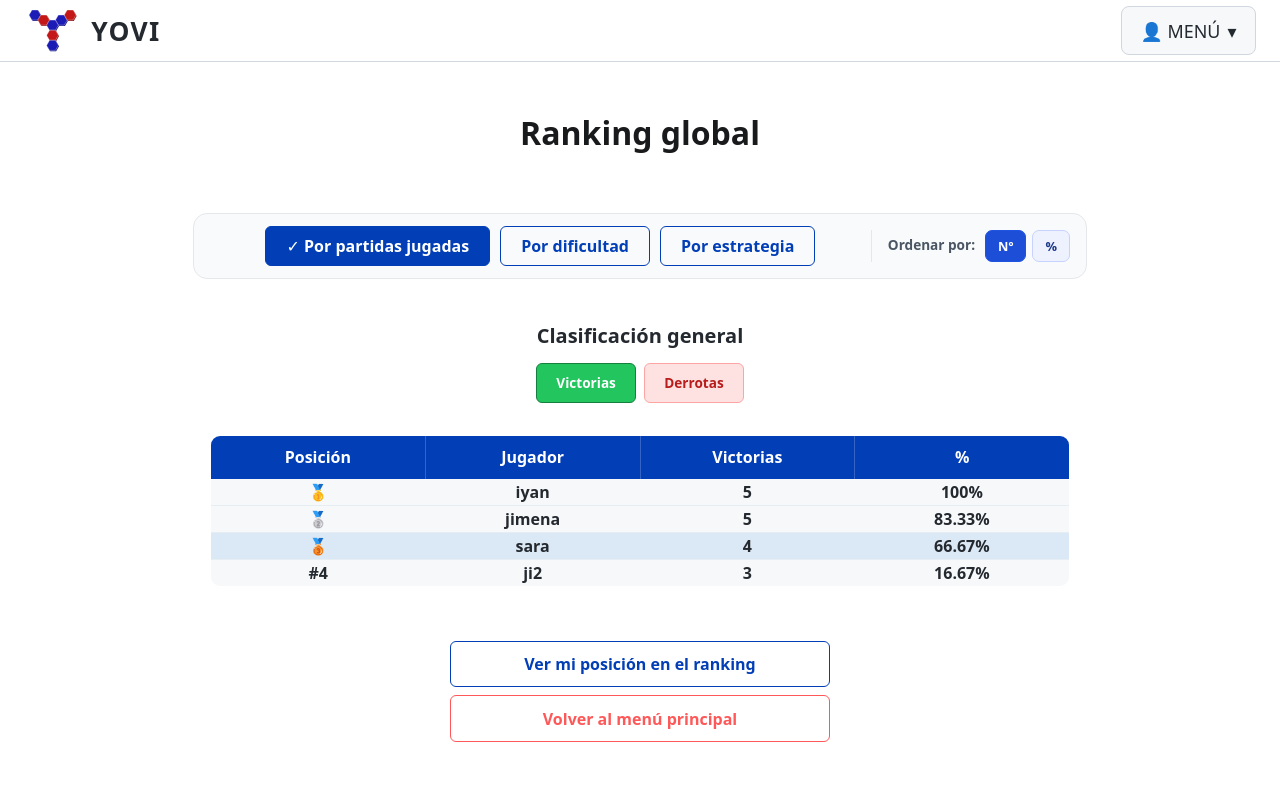
Test: Ranking › muestra sección de estrategia al activarla
Click the button "Por estrategia".
click(738, 246)  # box [660, 226, 815, 266]
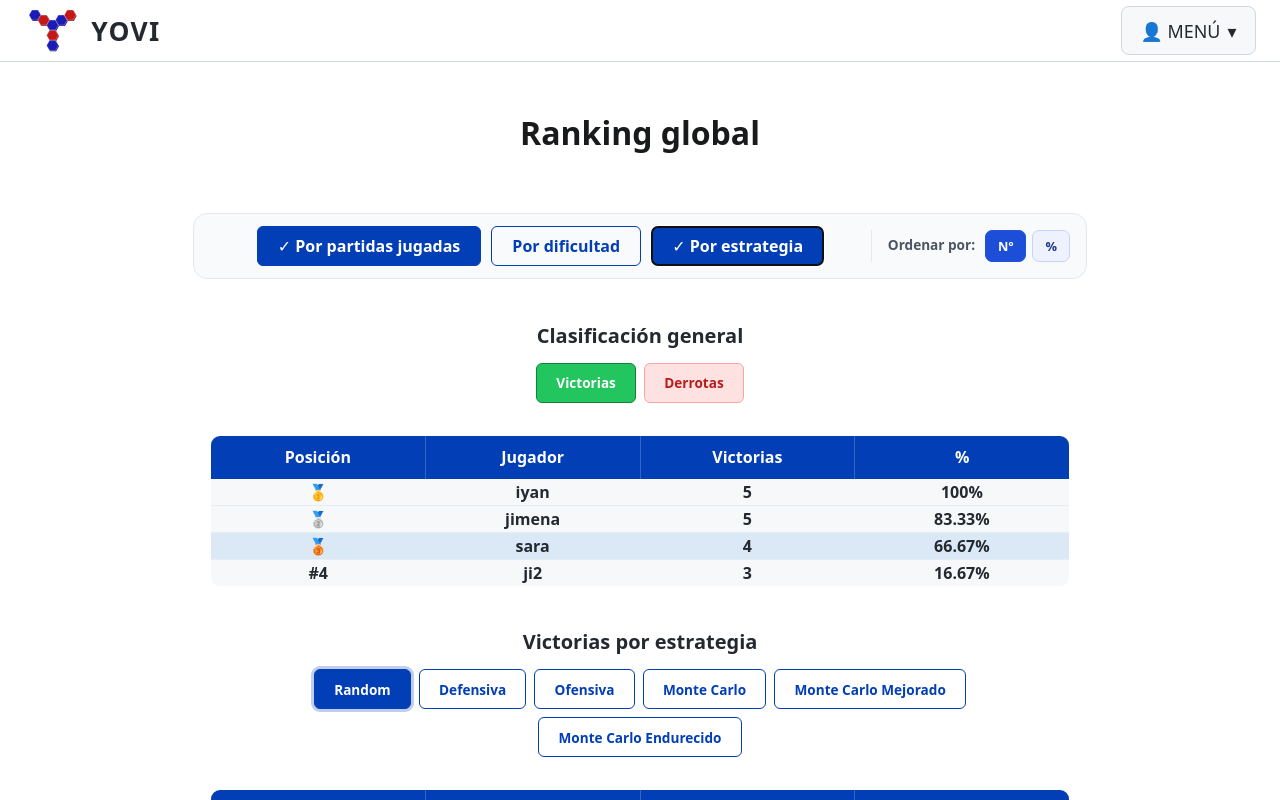
Now the heading "Victorias por estrategia" is shown, box [523, 627, 757, 657]
